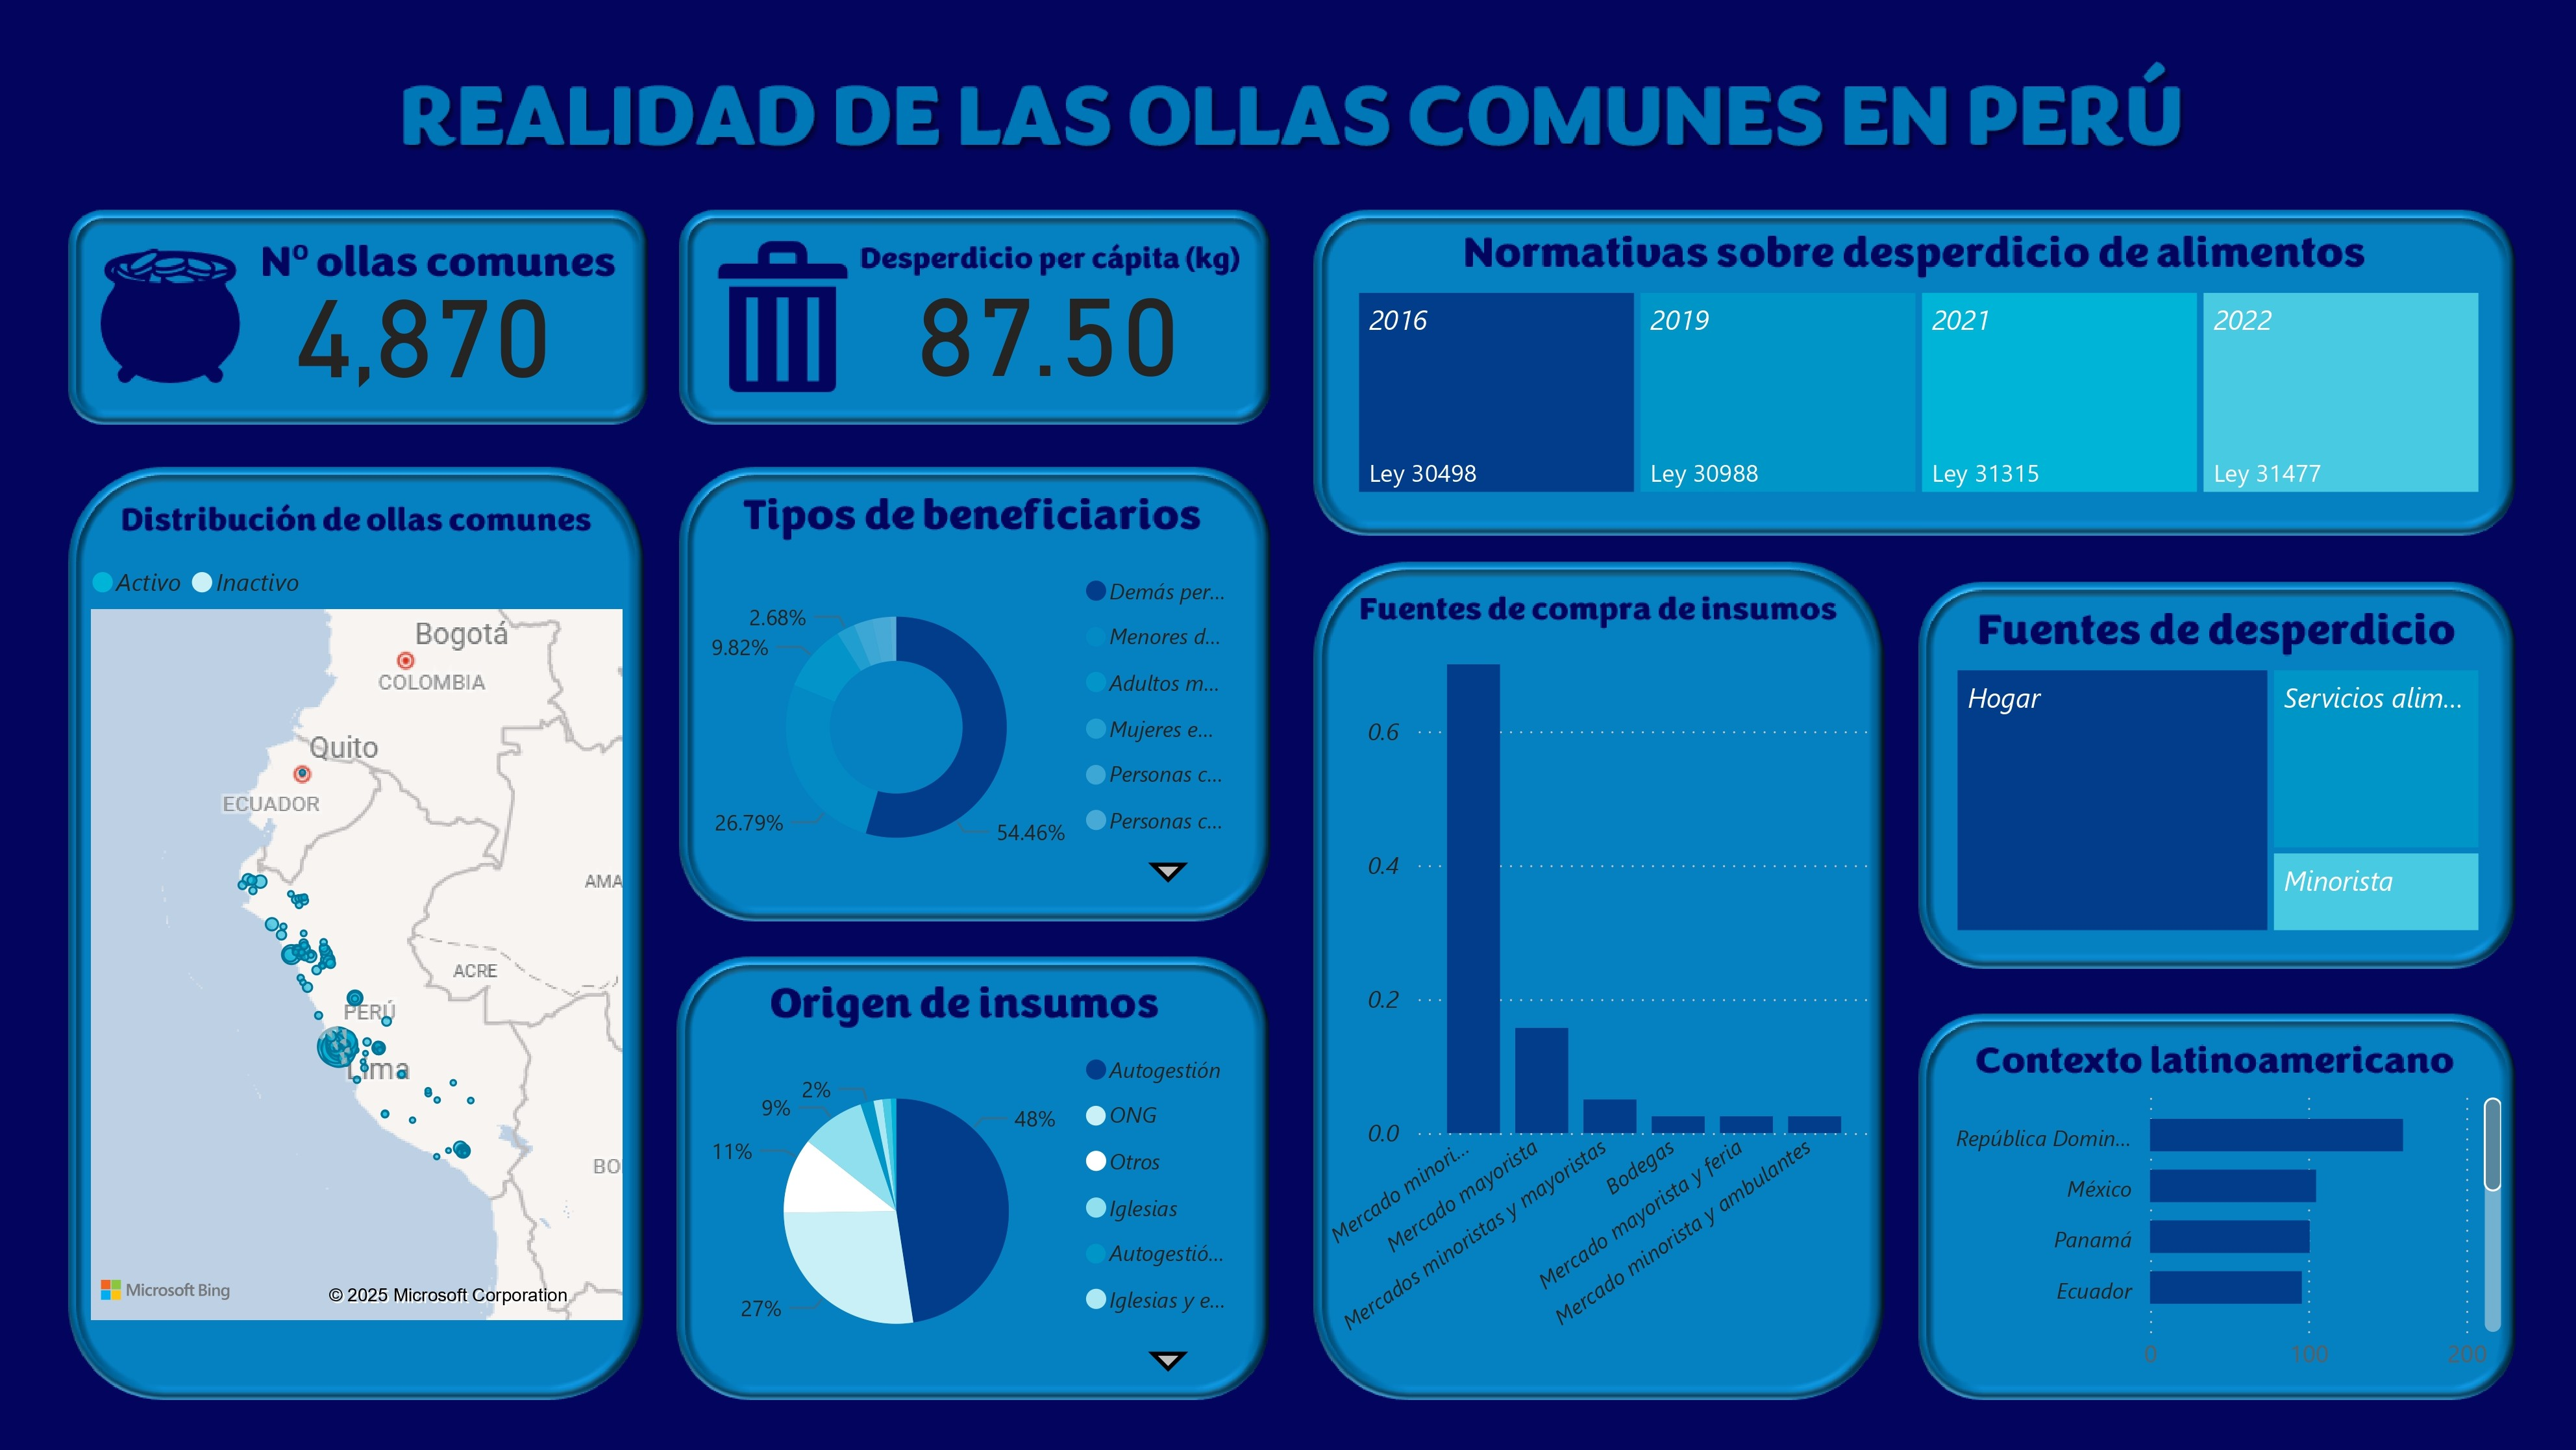

What the dashboard file says about the page in this screenshot:
{"tool":"powerbi","page":{"name":"Ollas_comunes","canvas":[1280,720],"ordinal":0},"visuals":[{"type":"card","fields":{"Values":["Avg(Desp_per_capita.Kg_persona_año)"]},"box":[380,107,280,106],"z":0},{"type":"map","fields":{"Category":["Olla_comun.Departamento","Olla_comun.Provincia","Olla_comun.Distrito"],"Size":["Sum(Olla_comun.N_beneficiarios)"],"Series":["Olla_comun.Estado"]},"box":[42.9,267.9,272.1,388.6],"z":1000},{"type":"donutChart","fields":{"Category":["Tipo_beneficiario.Nombre"],"Y":["Avg(Tipo_beneficiario.Promedio_olla)"]},"box":[346.7,275,275.8,168.3],"z":2000},{"type":"pieChart","fields":{"Category":["Fuente_insumos.Fuente"],"Y":["Sum(Fuente_insumos.Porcentaje)"]},"box":[347,511,276,173],"z":3000},{"type":"treemap","fields":{"Group":["Fuentes_desperdicio.Fuente"],"Values":["Sum(Fuentes_desperdicio.Total_toneladas)"]},"box":[963.1,326.2,266.9,137.7],"z":4000},{"type":"clusteredColumnChart","fields":{"Y":["Avg(Lugar_compras.Porcentaje)"],"Category":["Lugar_compras.Lugar"]},"box":[652.7,314,277.3,362],"z":5000},{"type":"clusteredBarChart","fields":{"Category":["Desp_per_capita.País"],"Y":["Sum(Desp_per_capita.Kg_persona_año)"]},"box":[948.6,528.6,292.9,157.1],"z":6000},{"type":"treemap","fields":{"Group":["Normativa.Año_implementación.Variación.Jerarquía de fechas.Año"],"Values":["Count(Normativa.Año_implementación.Variación.Jerarquía de fechas.Año)"],"Details":["Normativa.N_norma"]},"box":[668.2,140,561.8,108.2],"z":7000},{"type":"card","fields":{"Values":["Count(Olla_comun.Cod_OC)"]},"box":[133,120,158,81],"z":8000}]}

Visuals, with their boxes in screenshot pixels (x1, y1, x2, y2), scaled from the page's 1280x720 canvas onto the 2576x1450 screenshot:
card - Avg(Desp_per_capita.Kg_persona_año): 765:216:1328:429
map - Olla_comun.Departamento x Olla_comun.Provincia: 86:540:634:1322
donutChart - Tipo_beneficiario.Nombre x Avg(Tipo_beneficiario.Promedio_olla): 698:554:1253:893
pieChart - Fuente_insumos.Fuente x Sum(Fuente_insumos.Porcentaje): 699:1029:1254:1377
treemap - Fuentes_desperdicio.Fuente x Sum(Fuentes_desperdicio.Total_toneladas): 1938:657:2475:934
clusteredColumnChart - Avg(Lugar_compras.Porcentaje) x Lugar_compras.Lugar: 1313:632:1872:1362
clusteredBarChart - Desp_per_capita.País x Sum(Desp_per_capita.Kg_persona_año): 1909:1064:2499:1381
treemap - Normativa.Año_implementación.Variación.Jerarquía de fechas.Año x Count(Normativa.Año_implementación.Variación.Jerarquía de fechas.Año): 1344:282:2475:500
card - Count(Olla_comun.Cod_OC): 267:242:586:405
